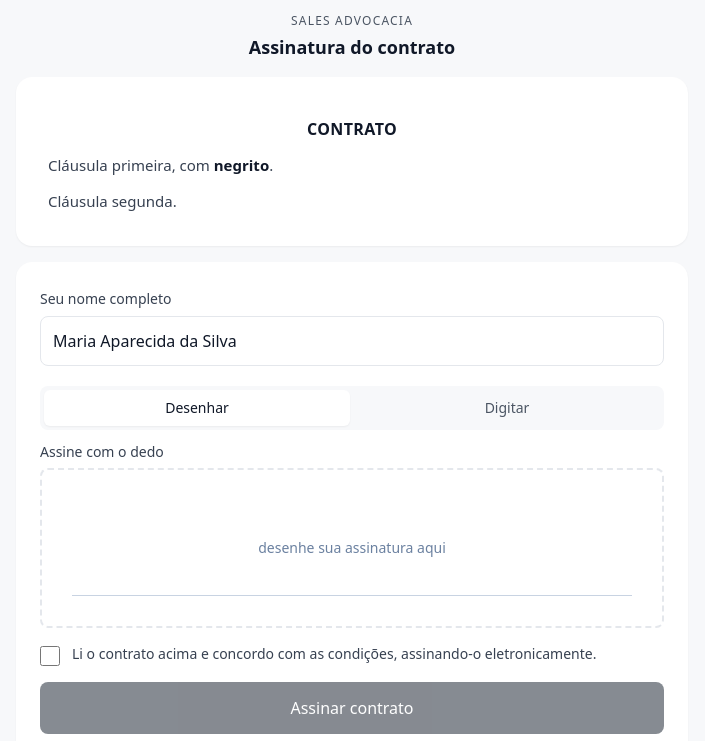
Test case: página de assinatura › assinar continua possível sem nenhum desenho
(page scrolled)
Expected: the text "Cláusula primeira, com" is shown, [48,155,214,175]
Click the checkbox at (50, 656), box [40,646,60,666]
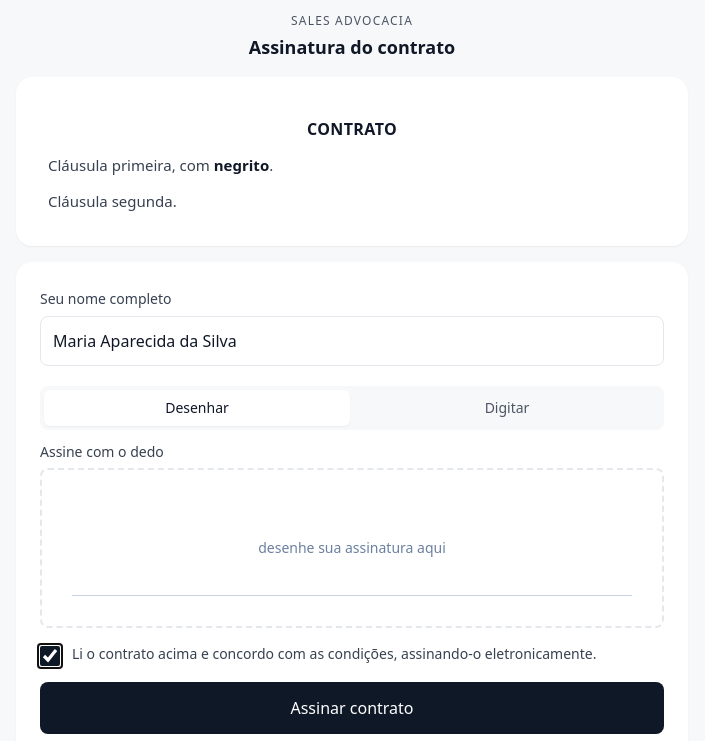
Click the button "Assinar contrato" at (352, 708), box [40,682,664,734]
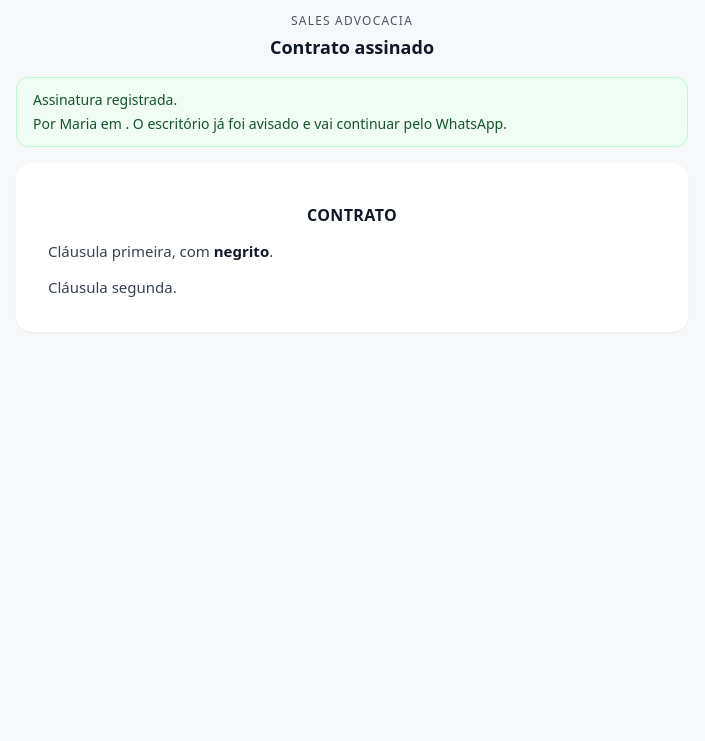
Result: the text "Assinatura registrada." is shown at [33,90,177,109]
